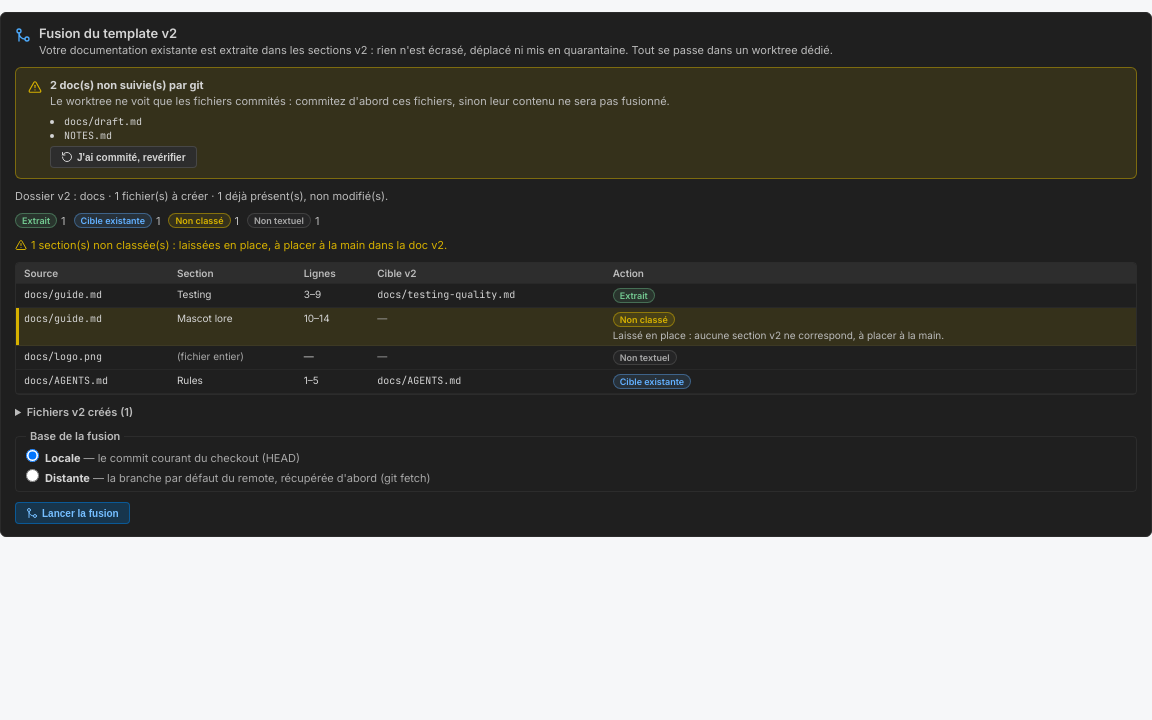
Scenario: TemplateMergePanel — plan › warns before launch about docs untracked in the checkout, and rechecks
Check: the message with test id "template-merge-untracked" shows "2 doc(s) non suivie(s) par git", box [50,78,204,92]
Check: the message with test id "template-merge-untracked" shows "commitez d'abord", box [50,94,670,108]
Step 1. Click the button "J'ai commité, revérifier" → (123, 157), box [50,146,196,168]
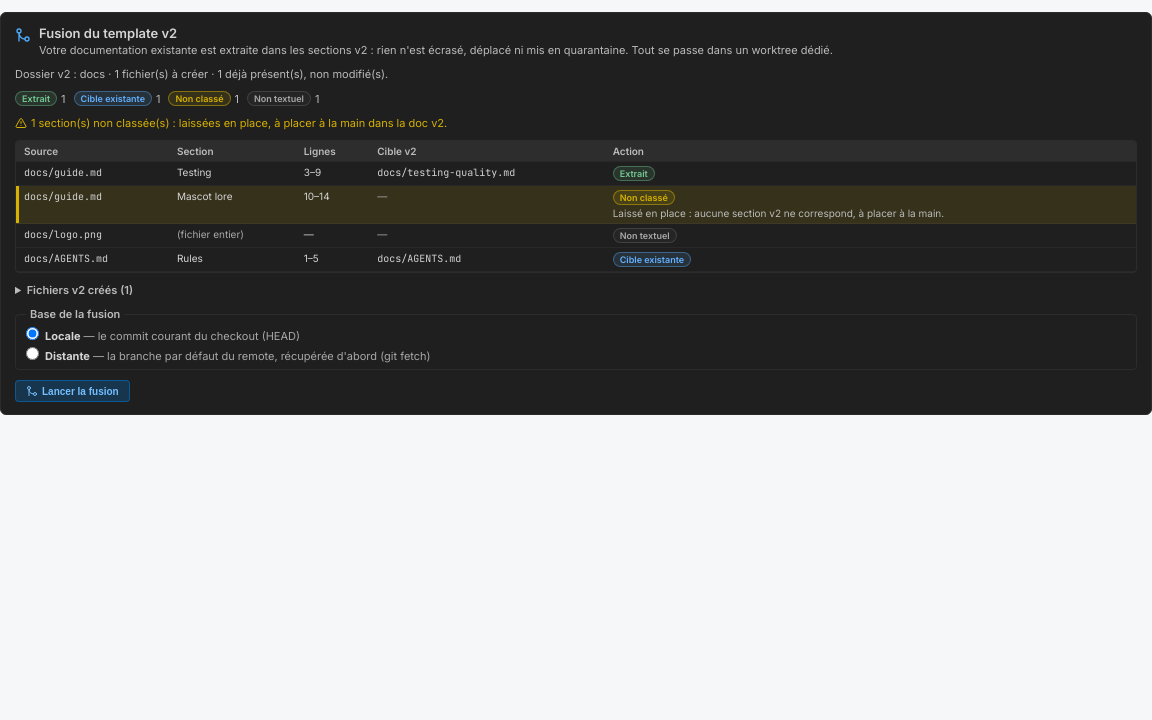
Check: the message with test id "template-merge-untracked" is gone
